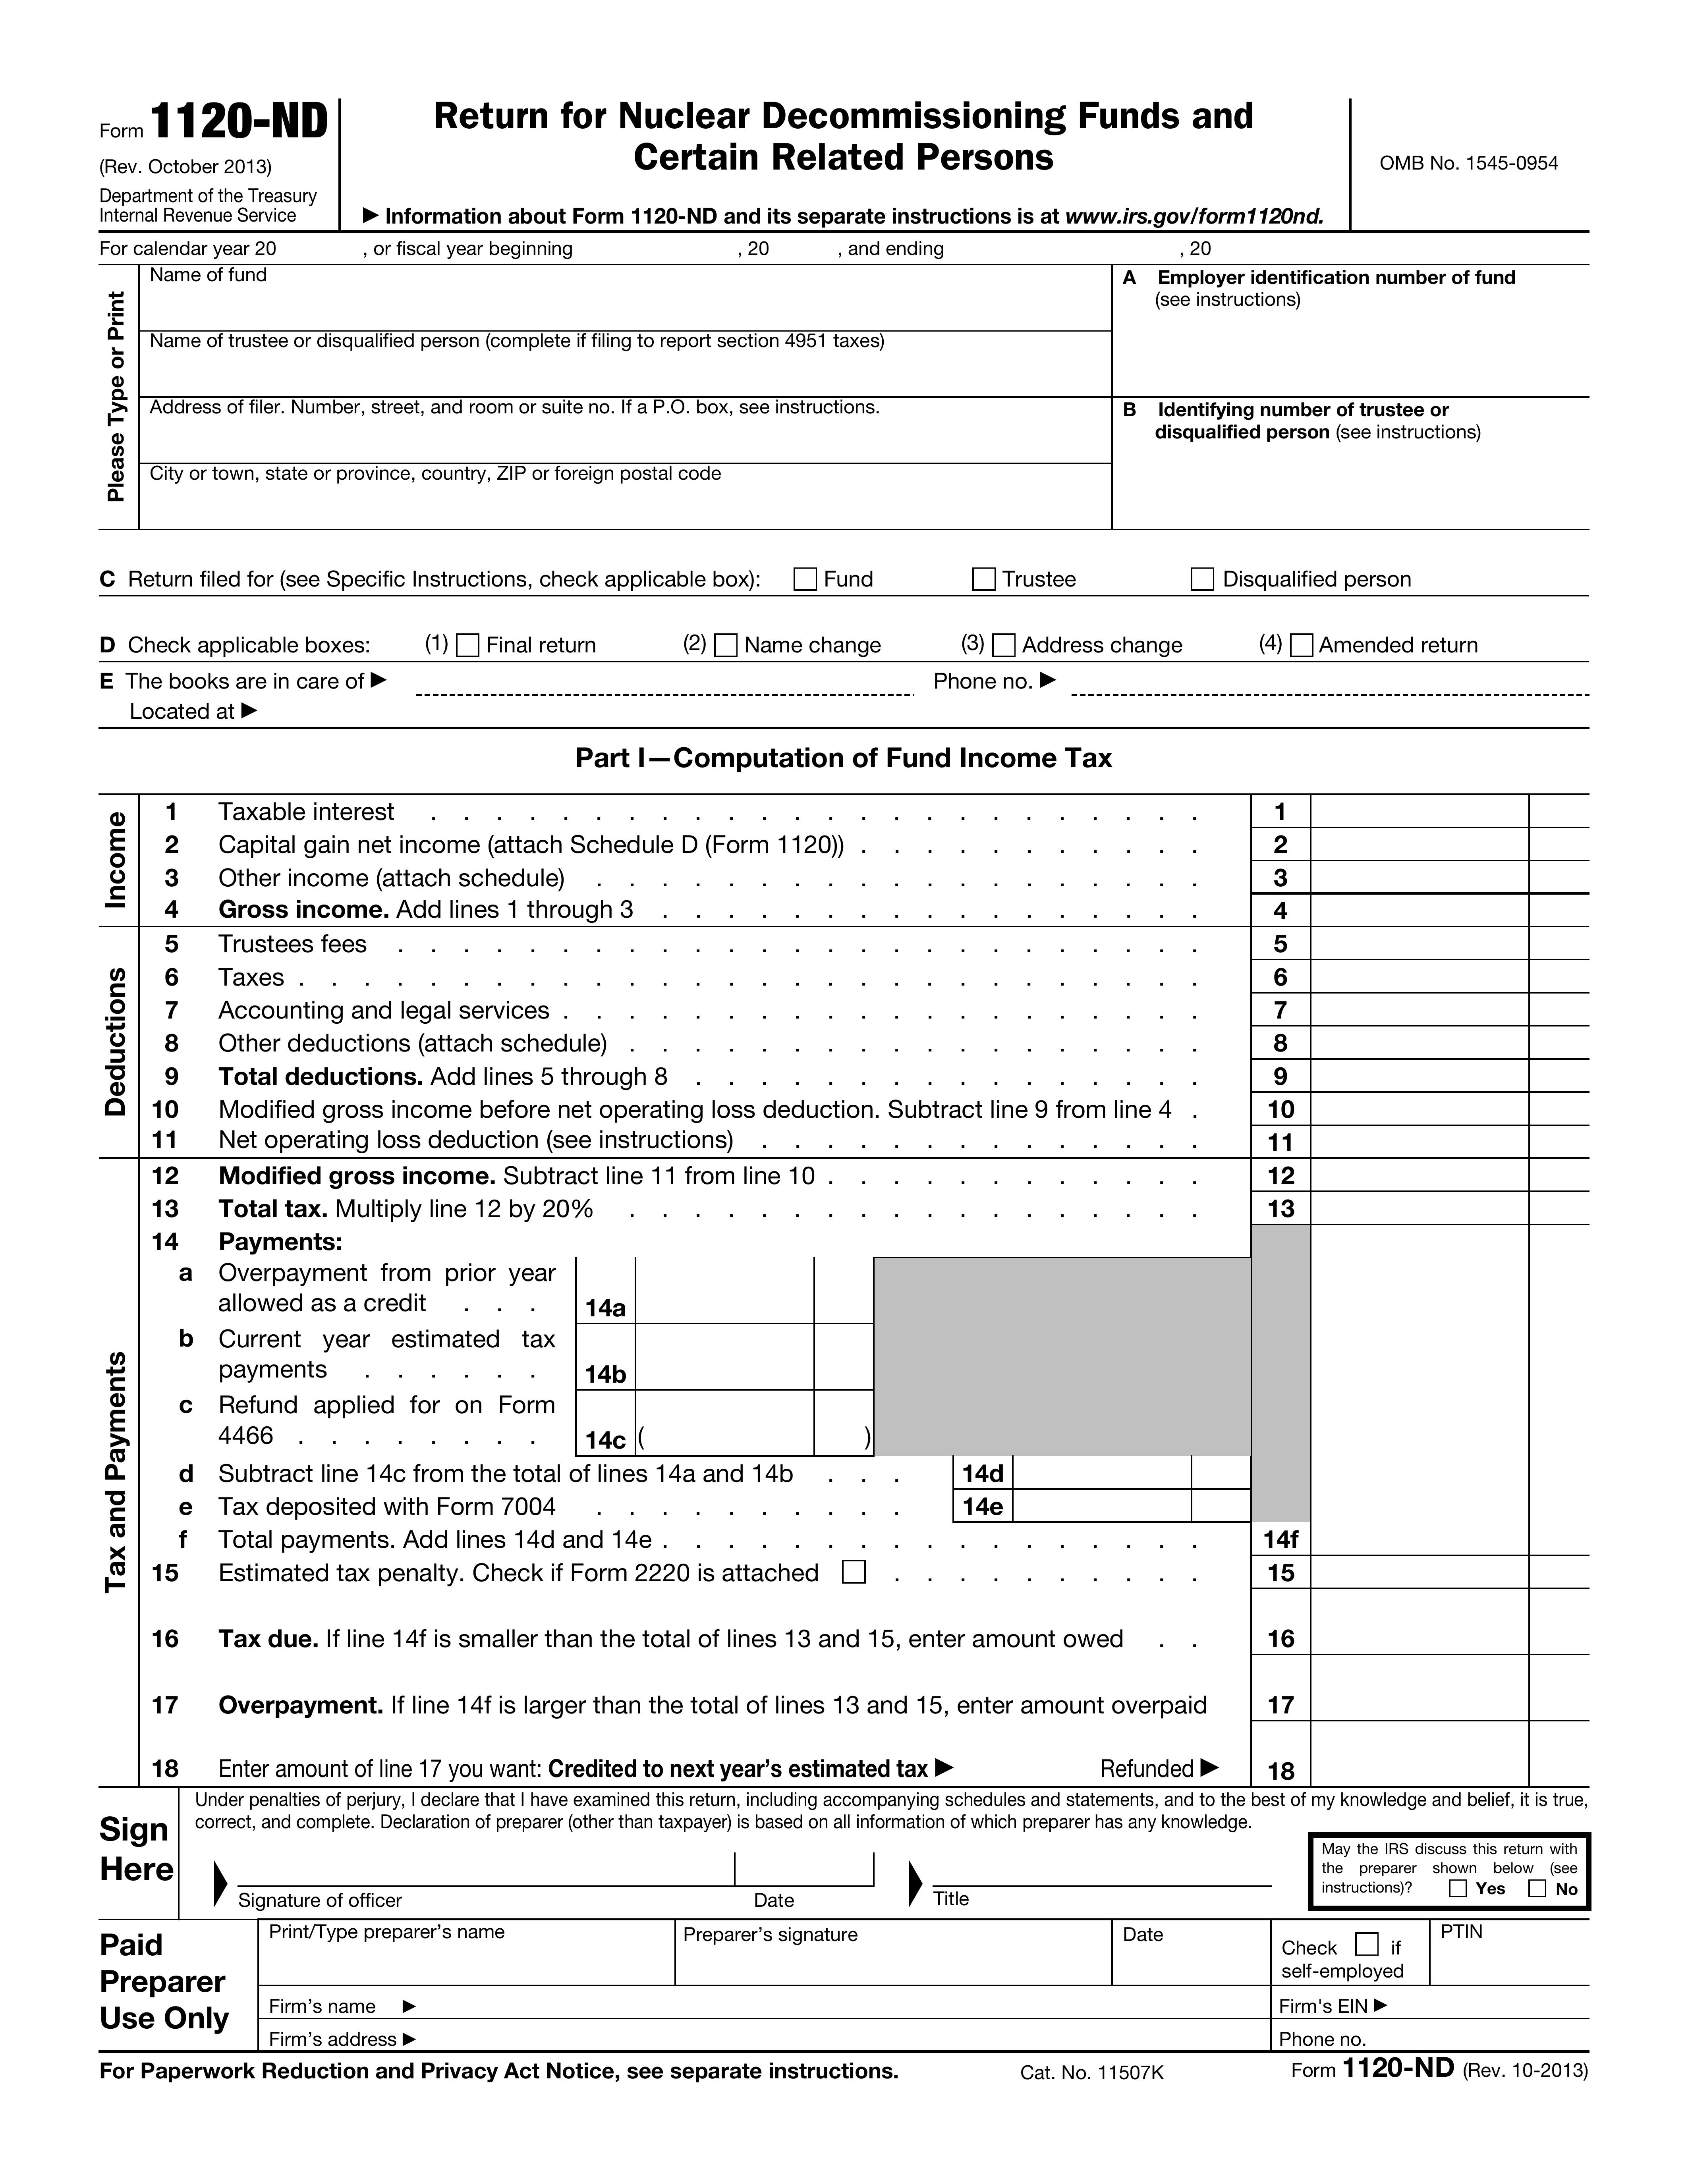form: (68, 68, 1620, 540), (75, 1785, 1617, 2056), (78, 612, 1612, 721)
table: (78, 790, 1612, 1790)
